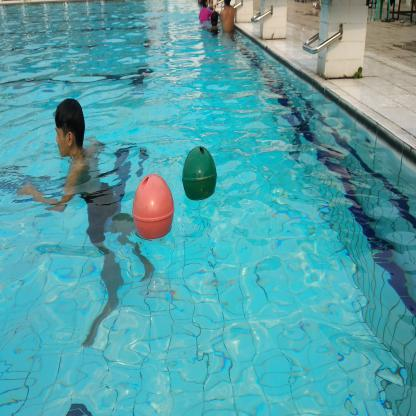green_buoy: (176, 137, 224, 210)
red_buoy: (129, 168, 179, 248)
